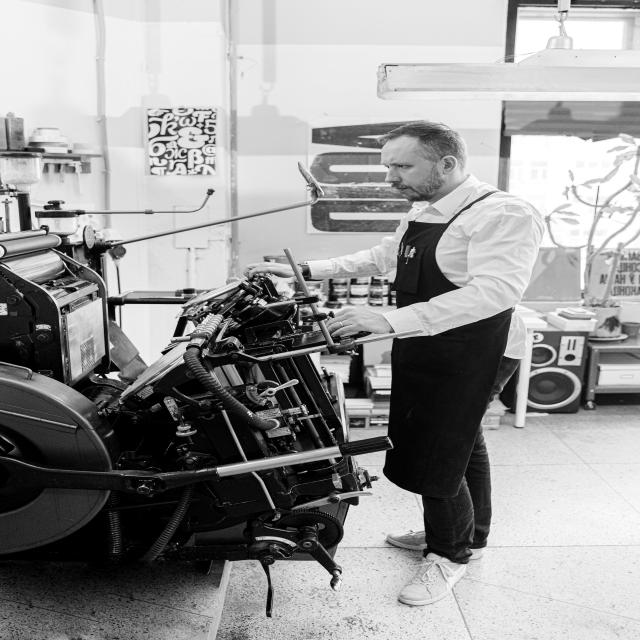No-Boots: (390, 553, 470, 608)
No-Vest: (392, 195, 534, 416)
